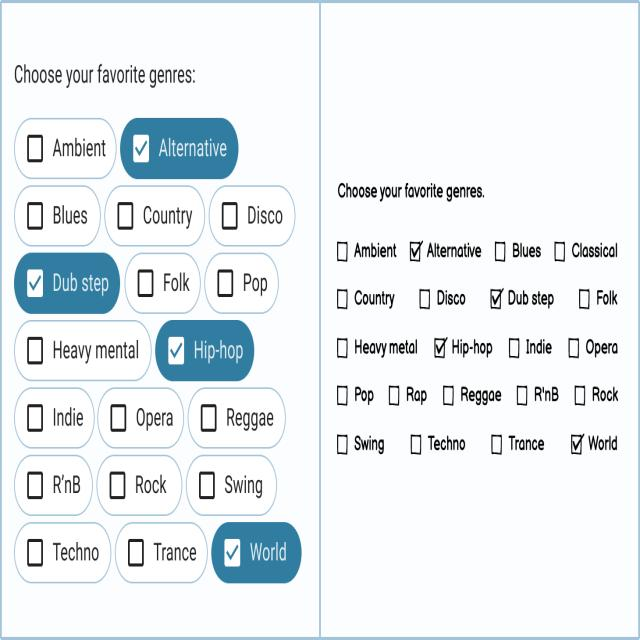Check-box: (11, 116, 114, 176), (124, 128, 230, 168), (114, 197, 195, 234), (21, 197, 94, 233), (336, 232, 400, 271), (431, 334, 500, 369), (567, 424, 622, 462), (214, 266, 269, 302), (335, 283, 396, 315), (407, 239, 482, 264), (553, 241, 620, 263), (514, 386, 566, 412), (490, 238, 542, 263), (386, 381, 427, 410)
Text: (13, 58, 198, 93), (337, 177, 483, 200)
